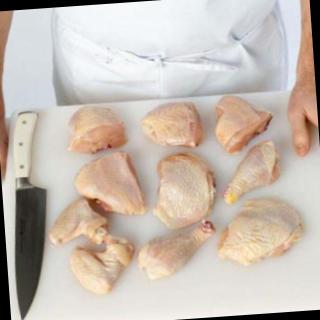Ayam: (215, 198, 310, 272), (152, 151, 218, 231), (73, 151, 147, 220), (138, 219, 219, 282), (222, 141, 284, 206), (68, 240, 135, 300), (45, 194, 114, 249), (212, 97, 276, 154), (64, 106, 128, 154), (141, 104, 205, 150)
